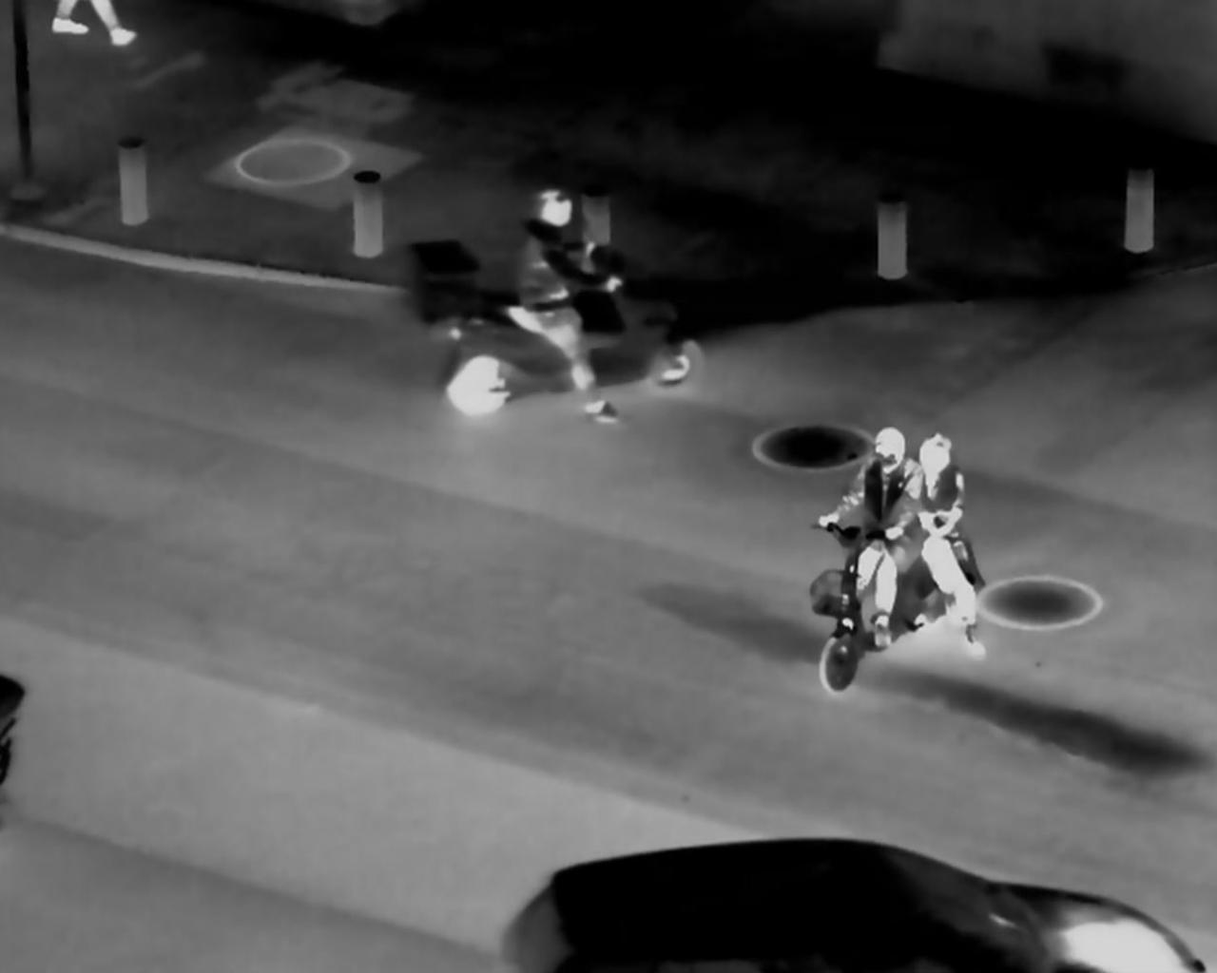person: (495, 174, 617, 431), (824, 407, 921, 666), (900, 425, 992, 667)
